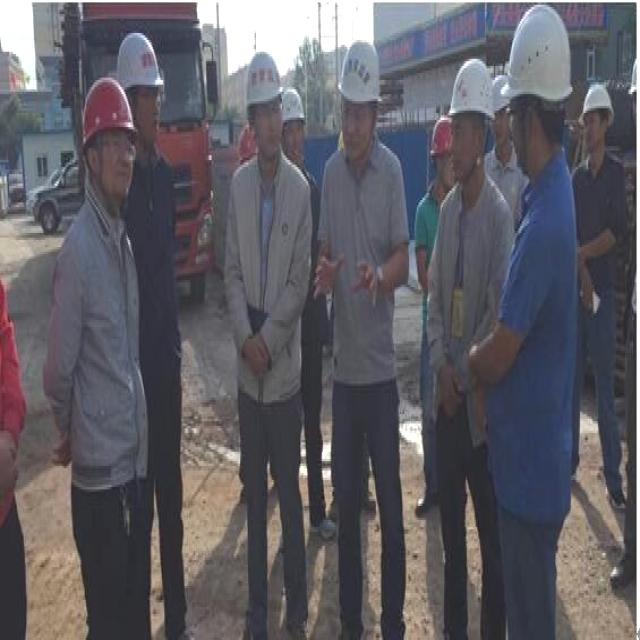Sin_Chaleco: (318, 144, 406, 371), (225, 159, 310, 390)
